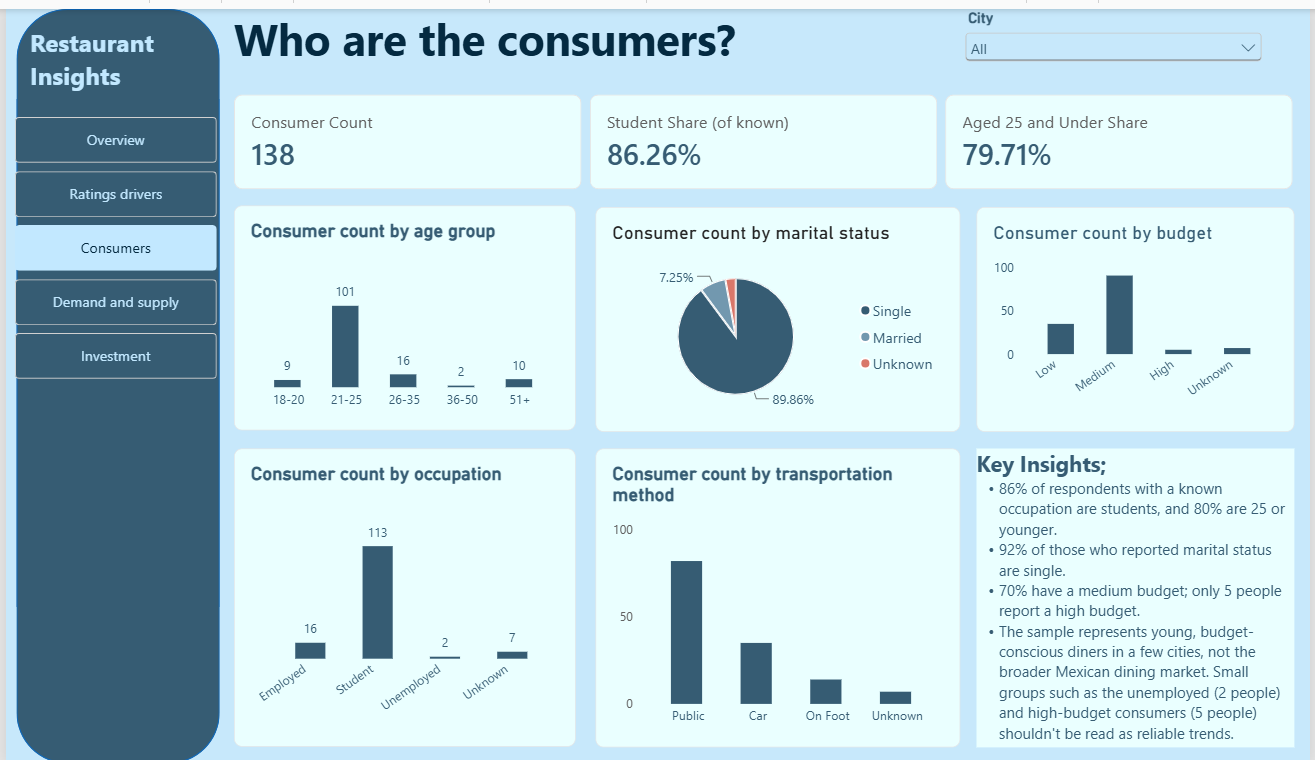

This screenshot's page, from the dashboard's own definition file:
{"tool":"powerbi","page":{"name":"Consumers","canvas":[1280,740],"ordinal":2},"visuals":[{"type":"shape","box":[9.8,0,199.4,740.6],"z":0},{"type":"textbox","box":[22.9,16.3,173.3,89.9],"z":1000},{"type":"pageNavigator","box":[9.5,106.5,198.8,260.3],"z":2000},{"type":"cardVisual","fields":{"Data":["Measures (2).Consumer Count","Measures (2).Student Share (of known)","Measures (2).Aged 25 and Under Share"]},"box":[224,83.4,1041.4,93.2],"z":3000},{"type":"lineStackedColumnComboChart","title":"Consumer count by age group","fields":{"Category":["Consumers.Age_Group"],"Y":["Measures (2).Consumer Count"]},"box":[224,192.9,335.1,220.7],"z":4000},{"type":"columnChart","title":"Consumer count by occupation","fields":{"Category":["Consumers.Occupation"],"Y":["Measures (2).Consumer Count"]},"box":[224,431.6,335.1,292.6],"z":5000},{"type":"pieChart","title":"Consumer count by marital status","fields":{"Category":["Consumers.Marital_Status"],"Y":["Measures (2).Consumer Count"]},"box":[578.7,194.5,358,220.7],"z":6000},{"type":"clusteredColumnChart","title":"Consumer count by budget","fields":{"Y":["Measures (2).Consumer Count"],"Category":["Consumers.Budget"]},"box":[953.1,194.5,312.2,220.7],"z":7000},{"type":"clusteredColumnChart","title":"Consumer count by transportation method","fields":{"Y":["Measures (2).Consumer Count"],"Category":["Consumers.Transportation_Method"]},"box":[579,432,358,293],"z":8000},{"type":"textbox","box":[953,432,312,293],"z":9000},{"type":"textbox","box":[224,0,1056.1,62.1],"z":10000},{"type":"slicer","fields":{"Values":["Consumers.City"]},"box":[936.7,0,300.8,63.8],"z":11000}]}

Visuals, with their boxes in screenshot pixels (x1, y1, x2, y2), scaled from the page's 1280x740 canvas onto the 1315x760 screenshot:
shape: [10, 0, 215, 759]
textbox: [24, 17, 202, 109]
pageNavigator: [10, 109, 214, 377]
cardVisual - Measures (2).Consumer Count x Measures (2).Student Share (of known): [230, 86, 1300, 181]
"Consumer count by age group" lineStackedColumnComboChart: [230, 198, 574, 425]
"Consumer count by occupation" columnChart: [230, 443, 574, 744]
"Consumer count by marital status" pieChart: [595, 200, 962, 426]
"Consumer count by budget" clusteredColumnChart: [979, 200, 1300, 426]
"Consumer count by transportation method" clusteredColumnChart: [595, 444, 963, 745]
textbox: [979, 444, 1300, 745]
textbox: [230, 0, 1314, 64]
slicer - Consumers.City: [962, 0, 1271, 66]
